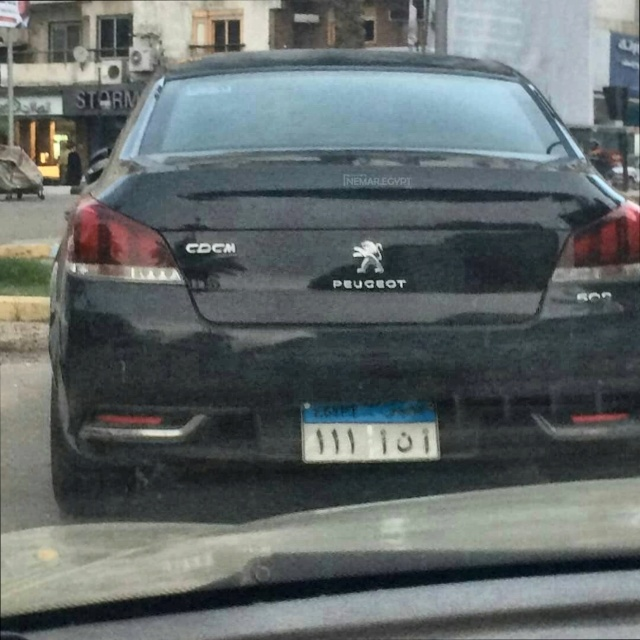License Plate: (293, 387, 448, 469)
